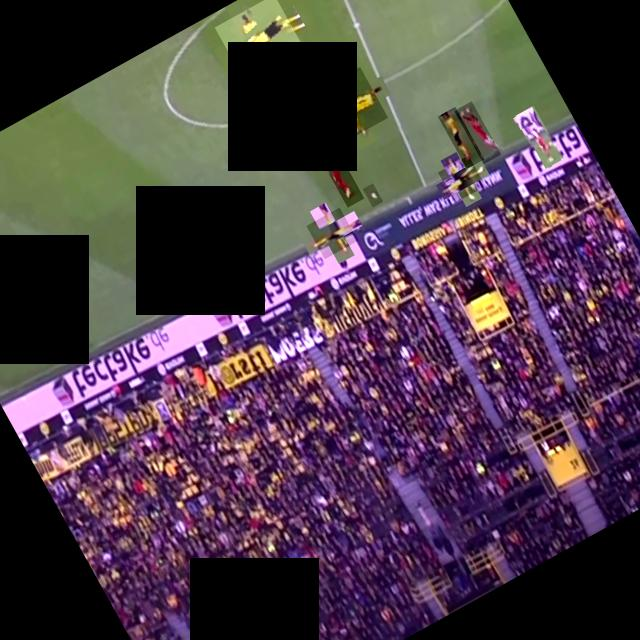ball: (362, 183, 383, 207)
soccer-player: (215, 0, 307, 86), (310, 66, 388, 146), (314, 138, 364, 208), (514, 106, 564, 170), (454, 101, 502, 164), (438, 106, 485, 168), (306, 207, 358, 259), (438, 155, 486, 203)
